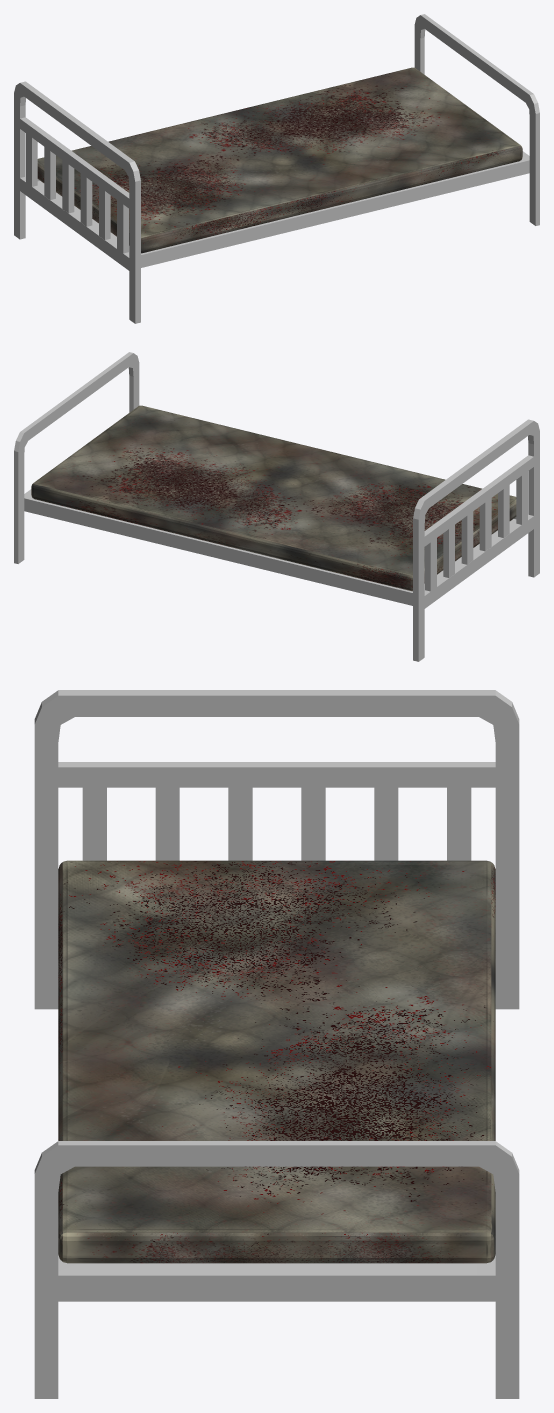
The picture shows the model from 3 angles, top to bottom: view 1: azimuth 30°, elevation 25°; view 2: azimuth 150°, elevation 25°; view 3: azimuth 270°, elevation 25°; orthographic projection. The views are drawn at different scales.
Parts seen in each view (by area): view 1: Matress, Bed frame; view 2: Matress, Bed frame; view 3: Matress, Bed frame.
Part boxes in pixels (<box>): Matress: <box>37,67,522,253</box>; Bed frame: <box>14,14,539,323</box>; Matress: <box>31,405,516,591</box>; Bed frame: <box>14,352,539,661</box>; Matress: <box>58,860,495,1263</box>; Bed frame: <box>34,690,519,1398</box>.
Bounding box in the file's own units: 1.97 × 0.7283 × 1.02.
